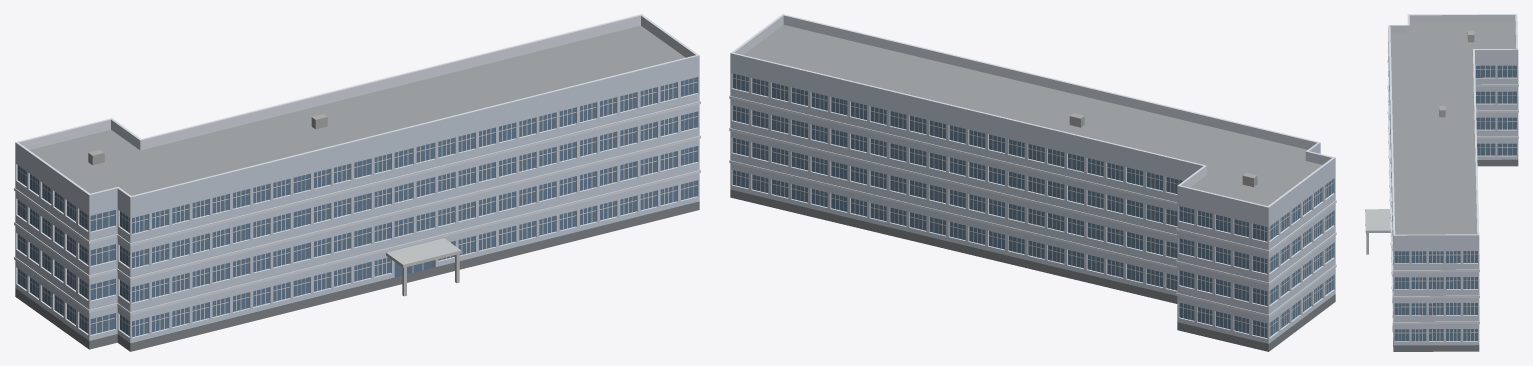
3 views of the same model, side by side, from view 1: azimuth 30°, elevation 25°; view 2: azimuth 150°, elevation 25°; view 3: azimuth 270°, elevation 25° (orthographic). The views are drawn at different scales.
Visible parts, largest first — view 1: wing3__wall-plaster, wing3__glass, wing3__roof, wing3__trim-concrete, wing3__frame, wing3__base-stone, wing3__canopy-concrete; view 2: wing3__wall-plaster, wing3__glass, wing3__roof, wing3__trim-concrete, wing3__frame, wing3__base-stone; view 3: wing3__roof, wing3__wall-plaster, wing3__glass, wing3__trim-concrete, wing3__frame, wing3__base-stone, wing3__canopy-concrete, wing3__equipment.
Boxes of the visible parts, x1,y1,x2,y2 form: wing3__wall-plaster: (15,55,699,343); wing3__glass: (17,77,697,337); wing3__roof: (29,25,685,195); wing3__trim-concrete: (14,14,700,337); wing3__frame: (17,78,697,336); wing3__base-stone: (15,201,699,351); wing3__canopy-concrete: (386,238,461,296); wing3__wall-plaster: (730,53,1335,343); wing3__glass: (732,73,1333,337); wing3__roof: (744,25,1322,205); wing3__trim-concrete: (729,14,1336,338); wing3__frame: (732,74,1333,337); wing3__base-stone: (730,189,1335,351); wing3__roof: (1390,22,1515,234); wing3__wall-plaster: (1388,27,1518,345); wing3__glass: (1394,65,1516,341); wing3__trim-concrete: (1387,14,1518,341); wing3__frame: (1395,65,1516,341); wing3__base-stone: (1392,159,1518,351); wing3__canopy-concrete: (1365,209,1390,254); wing3__equipment: (1439,30,1474,117).
Bounding box in the file's own units: 66.06 × 16.15 × 19.32.
